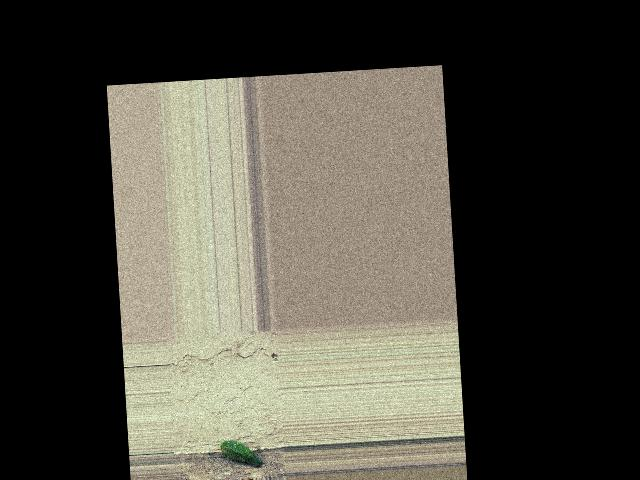cucumber: (219, 438, 261, 468)
